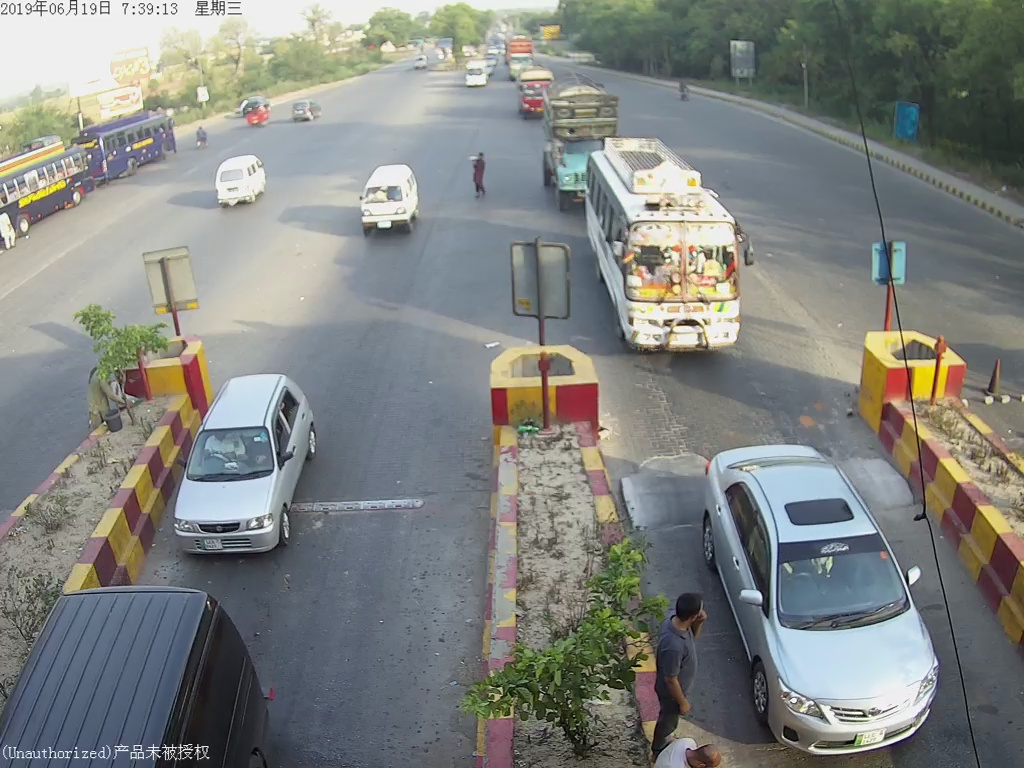Cat-1: (705, 443, 944, 748), (168, 363, 319, 561), (353, 156, 426, 237)
Cat-3: (587, 126, 760, 359)
Cat-4: (532, 72, 616, 204)
